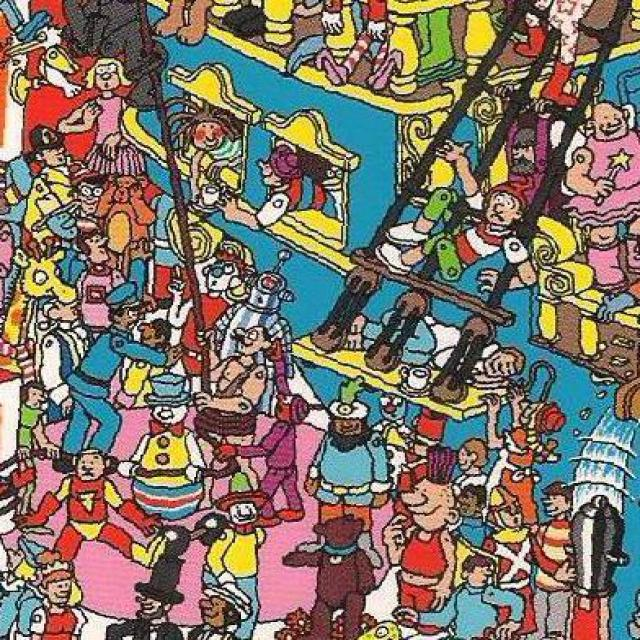waldo: (67, 162, 109, 216)
